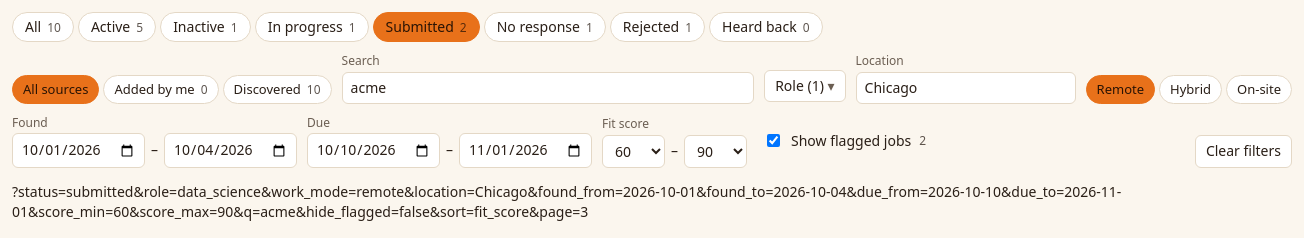
Test: Filters › restores every control from the URL, and Clear keeps only the sort
Expected: the heading "Role (1)" is shown, 764,70 -> 846,102
Expected: the field with placeholder "City, state or Remote" holds "Chicago", 856,72 -> 1076,104
Click the button "Clear filters".
click(1243, 152)  # box 1195,135 -> 1292,168
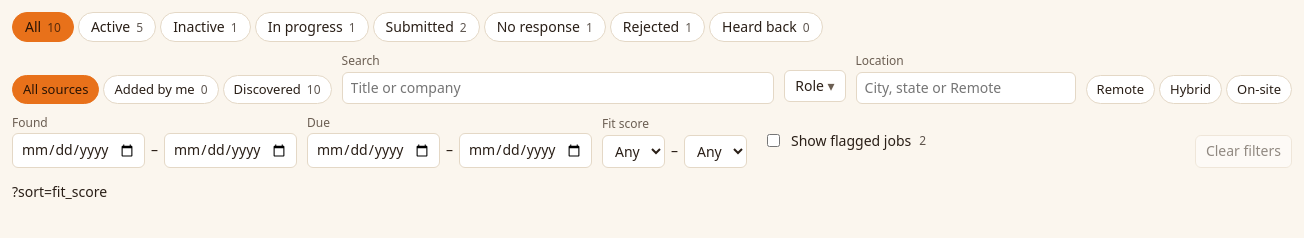
Now the text with test id "search" reads "?sort=fit_score", box 12,182 -> 107,201
Now the search field with placeholder "Title or company" is empty, box 342,72 -> 774,104
Now the button "Clear filters" is disabled, box 1195,135 -> 1292,168
